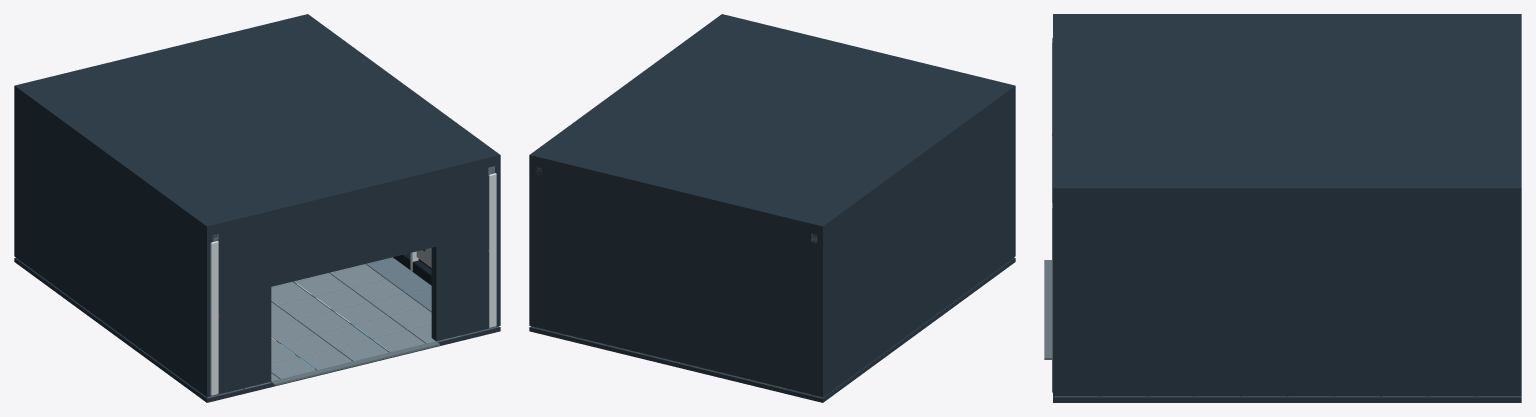
The model's file is core_room.obj.
3 renders of one model, left to right at view 1: azimuth 30°, elevation 25°; view 2: azimuth 150°, elevation 25°; view 3: azimuth 270°, elevation 25°, orthographic. The views are drawn at different scales.
Visible parts, largest first — view 1: core_room_recess, core_room_floor, core_room_shell, core_room_service_floor, core_room_steel, core_room_graphite; view 2: core_room_recess; view 3: core_room_recess, core_room_steel, core_room_service_floor.
Part boxes in pixels (x1,y1,x2,y2): core_room_recess: (14, 14, 500, 402); core_room_floor: (244, 264, 462, 389); core_room_shell: (210, 173, 496, 395); core_room_service_floor: (207, 257, 498, 398); core_room_steel: (212, 166, 494, 385); core_room_graphite: (393, 249, 431, 285); core_room_recess: (529, 14, 1015, 402); core_room_recess: (1053, 14, 1521, 402); core_room_steel: (1044, 260, 1051, 359); core_room_service_floor: (1053, 396, 1520, 396).
Bounding box in the file's own units: 11 × 6.32 × 12.73.
